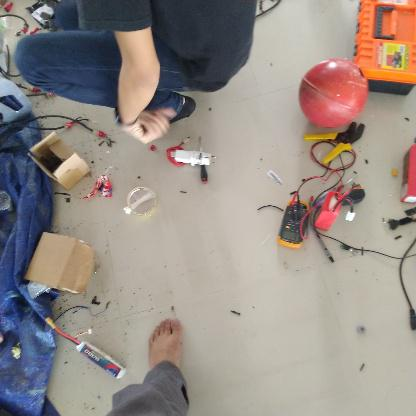red_buoy: (297, 58, 369, 129)
